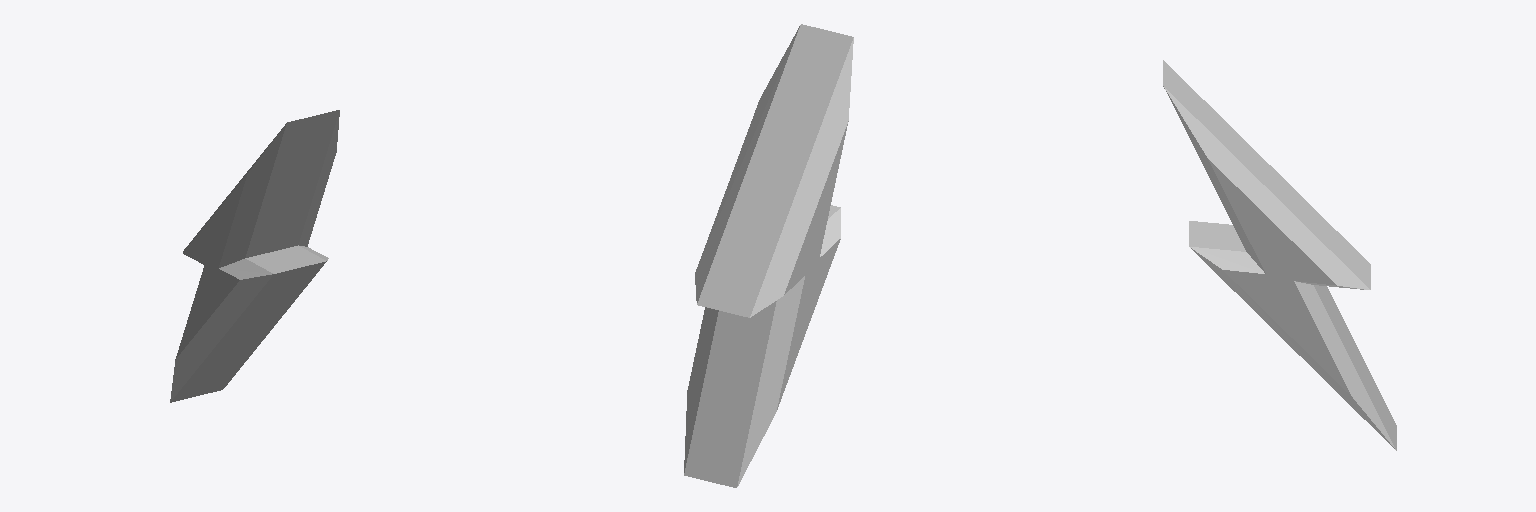
File: accelerator.obj
3 renders of one model, left to right at view 1: azimuth 30°, elevation 25°; view 2: azimuth 150°, elevation 25°; view 3: azimuth 270°, elevation 25°, orthographic.
Parts seen in each view (by area): view 1: speed; view 2: speed; view 3: speed.
Boxes of the visible parts, <box> form: speed: <box>170,110,339,402</box>; speed: <box>684,24,853,487</box>; speed: <box>1163,60,1396,450</box>.
Size of the model in its own units: 0.3093 by 1.22 by 0.7045.